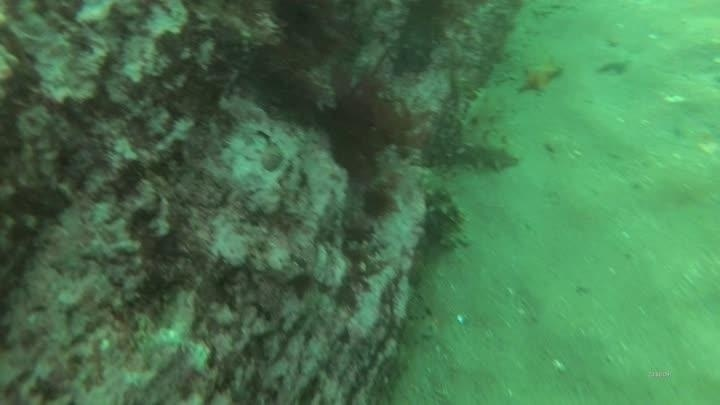holothurian: (454, 79, 523, 174), (416, 170, 472, 257)
starfish: (512, 55, 566, 98)
